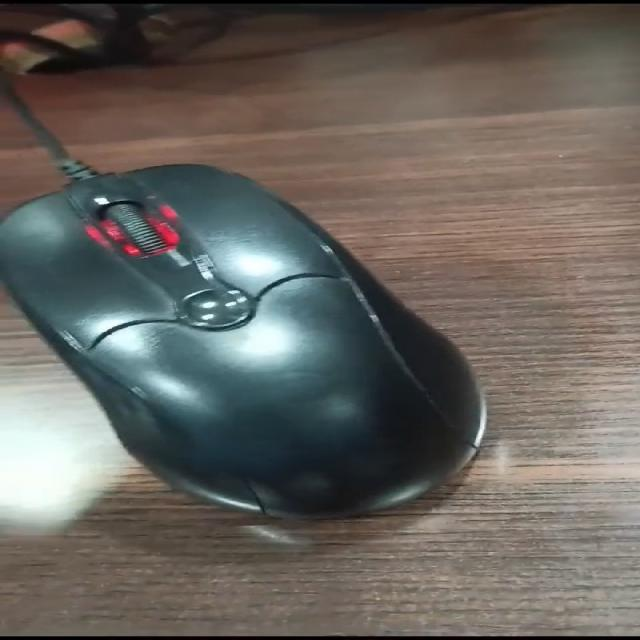Mouse: (0, 100, 526, 536)
